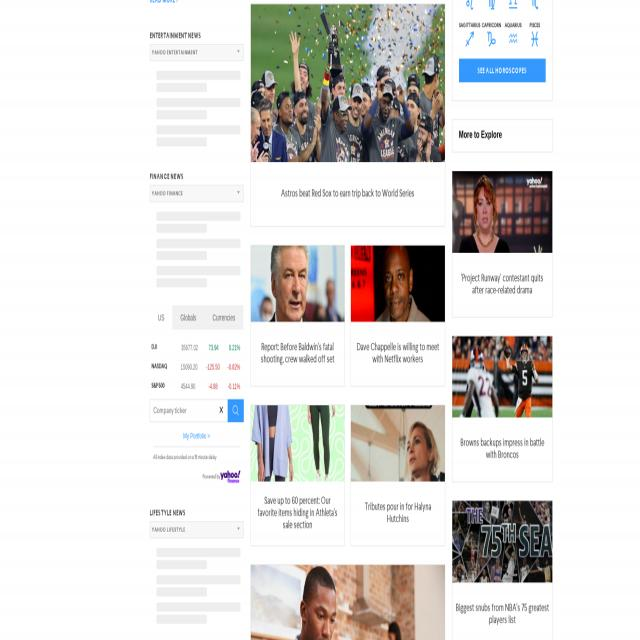button: (251, 5, 445, 226), (250, 564, 445, 640), (452, 172, 552, 317), (452, 336, 552, 481), (452, 501, 552, 640), (351, 245, 445, 387), (251, 245, 344, 388), (351, 405, 445, 546), (251, 405, 344, 546), (459, 59, 545, 82), (204, 305, 243, 330), (172, 305, 205, 330), (150, 305, 172, 330), (227, 400, 244, 423), (459, 31, 481, 47), (480, 31, 502, 47), (502, 31, 524, 47), (524, 31, 546, 47), (220, 471, 240, 482), (459, 0, 481, 10), (480, 0, 502, 10), (502, 0, 524, 10), (524, 0, 546, 10), (219, 405, 224, 416)
field: (150, 399, 228, 423), (150, 44, 243, 61), (150, 185, 243, 202), (150, 521, 243, 538)
